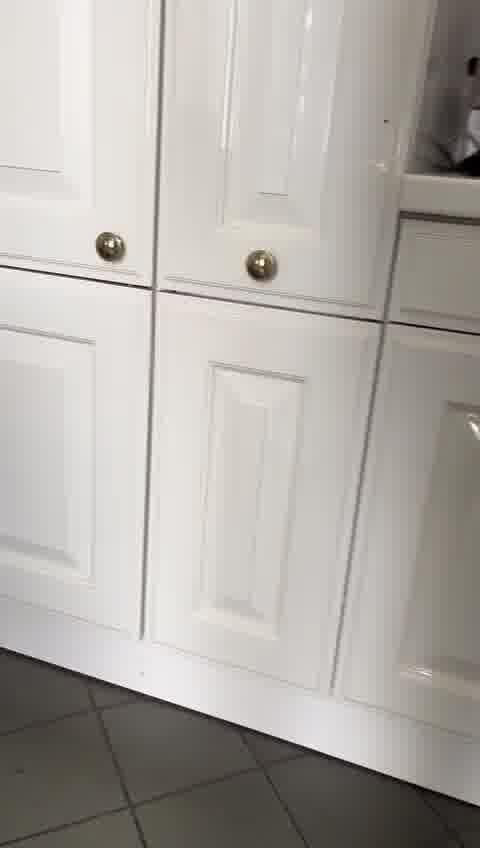cabinet_door: (153, 314, 370, 709), (161, 0, 398, 307), (0, 283, 147, 645), (364, 338, 479, 757), (2, 2, 162, 279), (399, 223, 480, 328)
handle: (242, 241, 280, 297), (94, 224, 128, 272), (467, 412, 480, 454)
